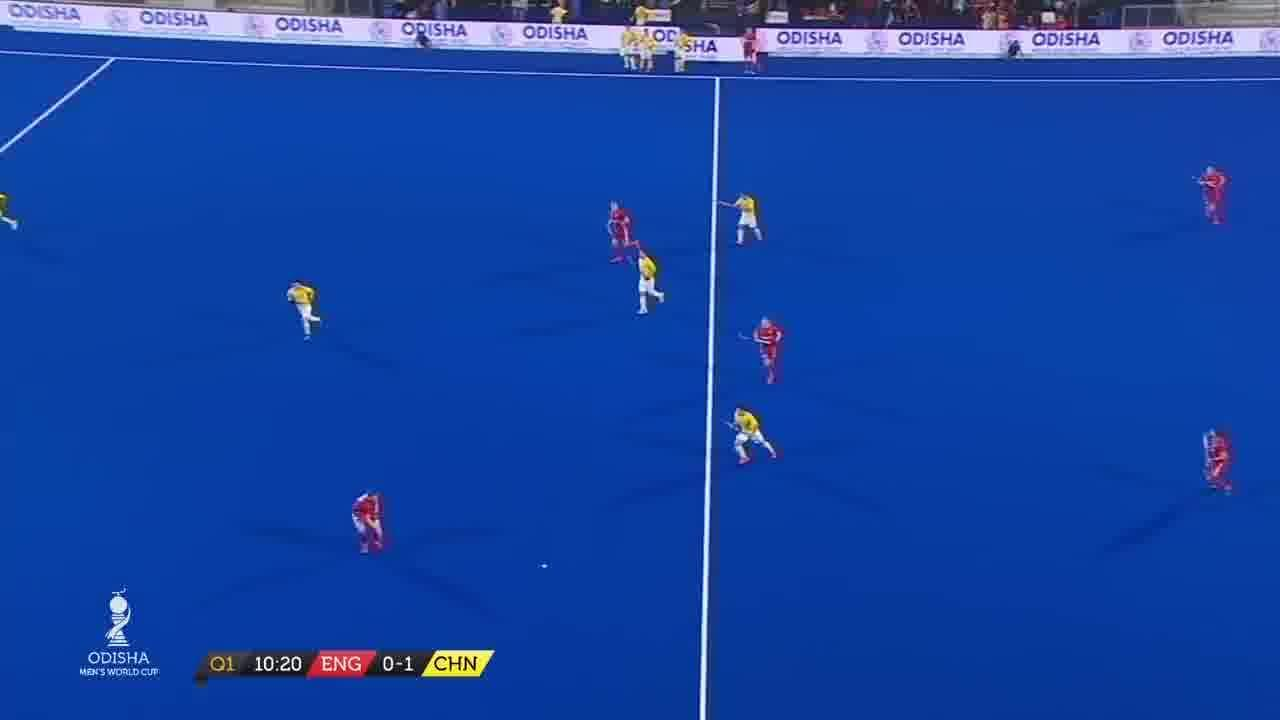ball: (537, 562, 553, 574)
